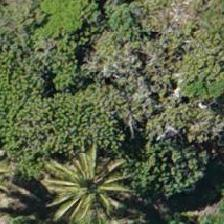coconut_tree: (39, 127, 129, 217)
